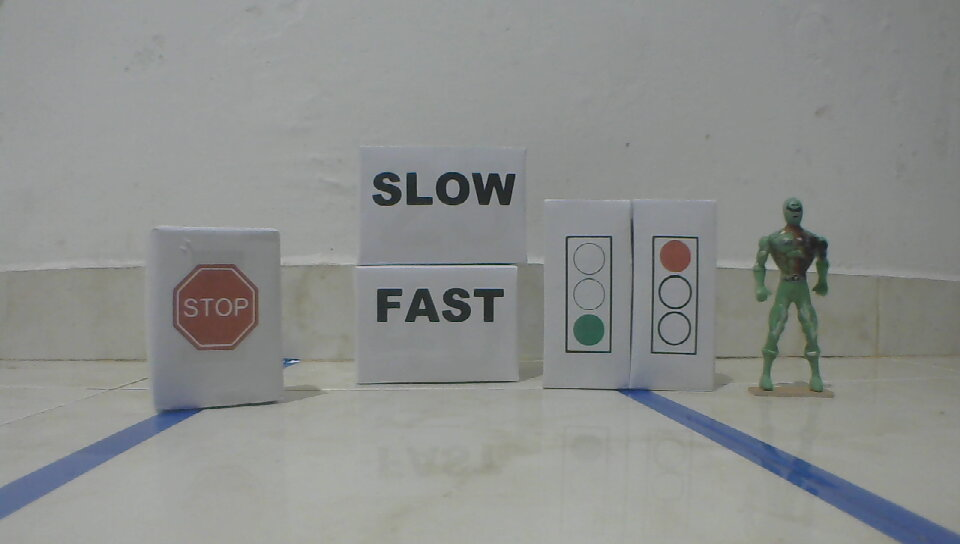Fast: (375, 286, 508, 326)
Green Traffic Light: (562, 234, 615, 357)
Person: (749, 196, 833, 402)
Red Traffic Light: (649, 234, 702, 358)
Slow: (372, 169, 518, 209)
Stop Sign: (171, 263, 260, 352)
